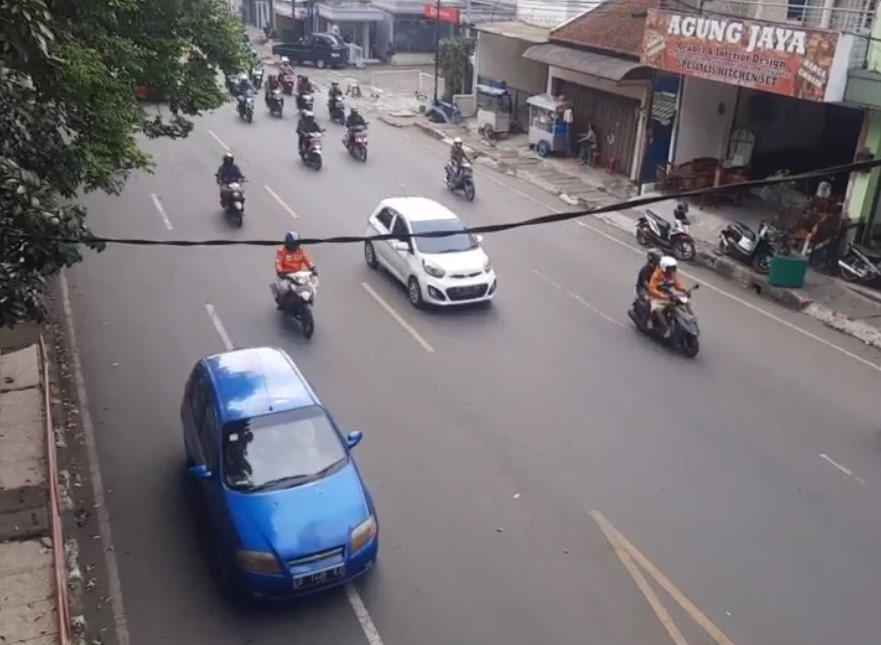mobil: (167, 347, 405, 600), (357, 194, 502, 316)
motor: (627, 249, 704, 355), (263, 227, 329, 339), (438, 135, 479, 203), (214, 154, 251, 226), (292, 109, 328, 169), (342, 111, 374, 159)
